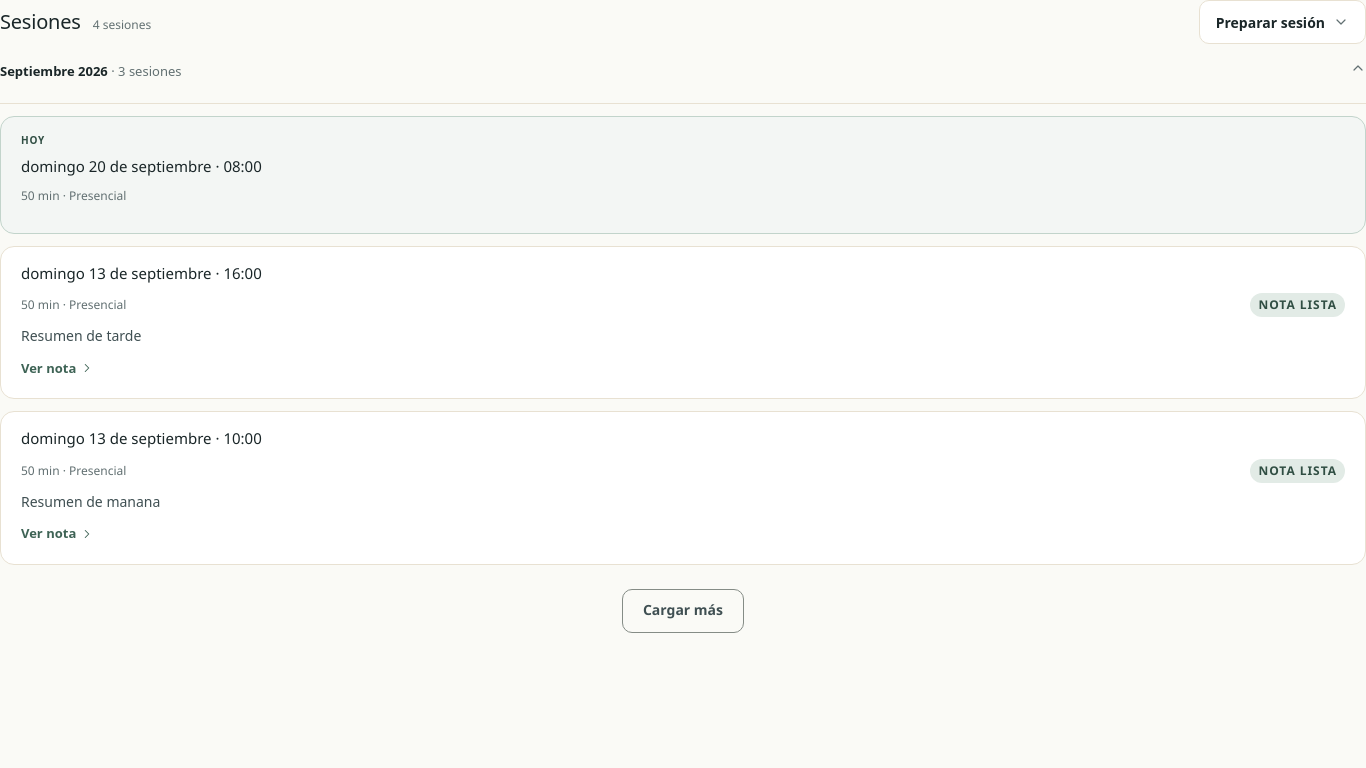
Test: Cargar más › cuando llega la nota de hoy no se pierde lo que ya se había cargado, ni se repite nada
expect the text "Resumen de tarde" is shown: met, box [21,326,141,345]
Click the button "Cargar más" at (683, 611), box [622,589,744,633]
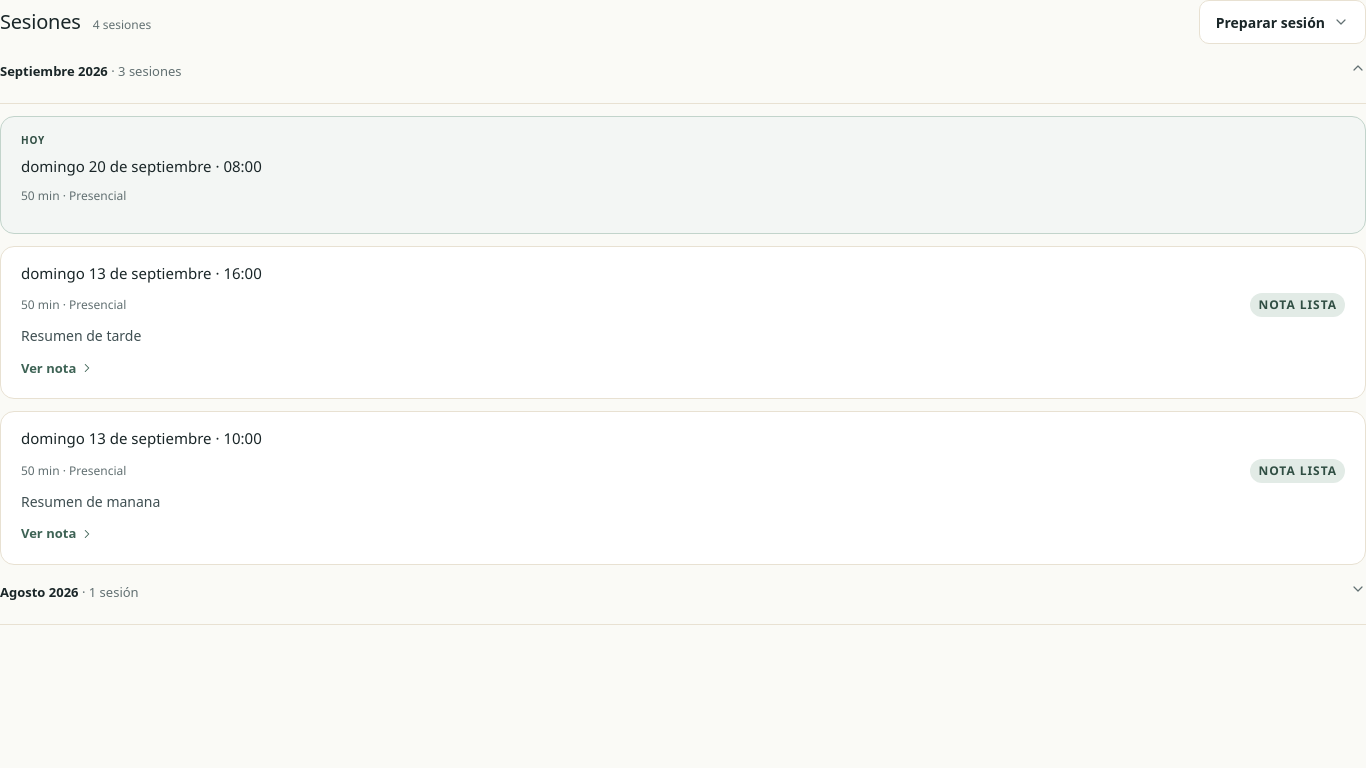
Click the button "Agosto 2026 · 1 sesión" at (39, 592), box [0,581,1365,625]
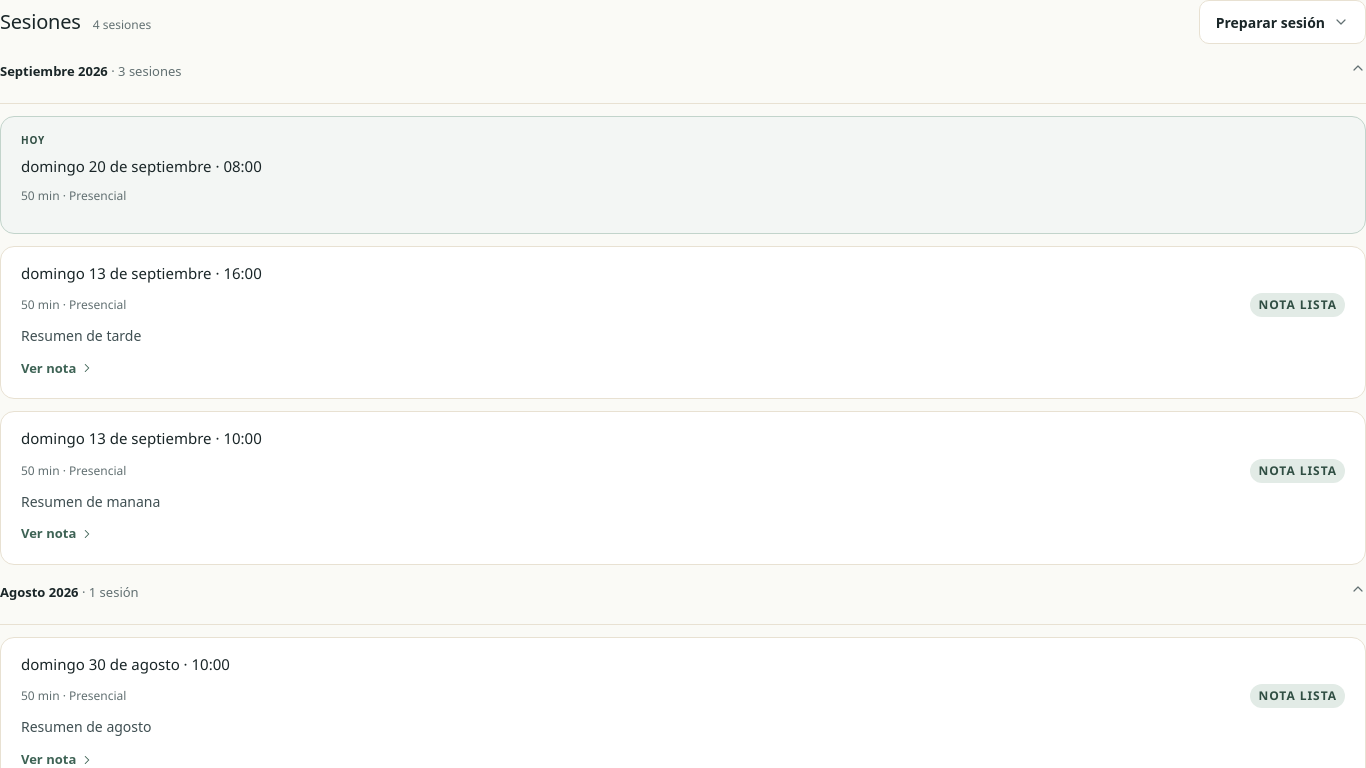
expect the text "Resumen de agosto" is shown: met, box [21,717,152,736]
